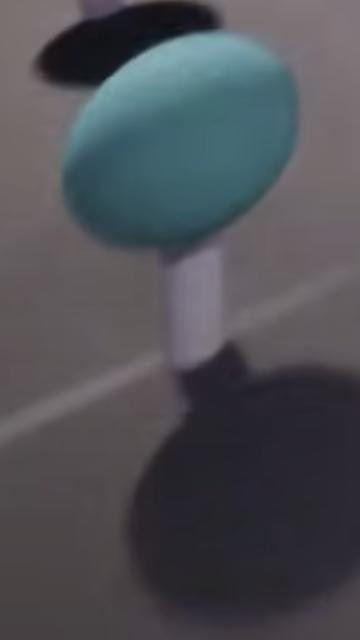algae: (61, 33, 299, 254)
coral: (167, 231, 221, 372), (80, 0, 125, 17)
